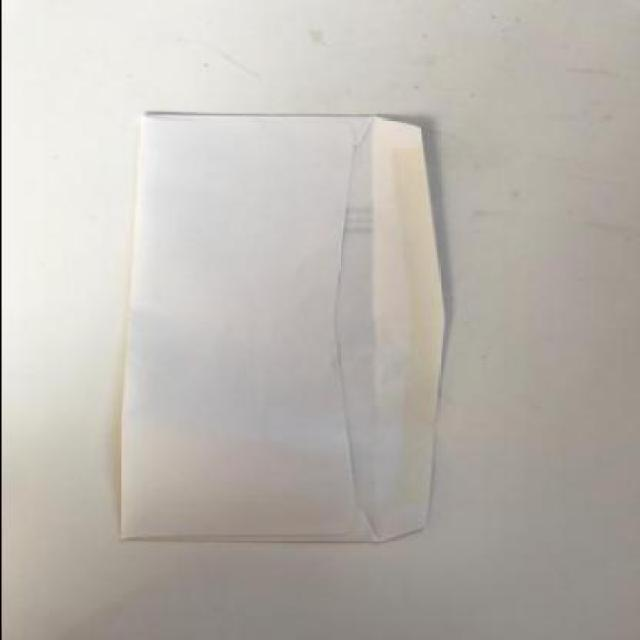PAPER: (116, 110, 444, 542)
